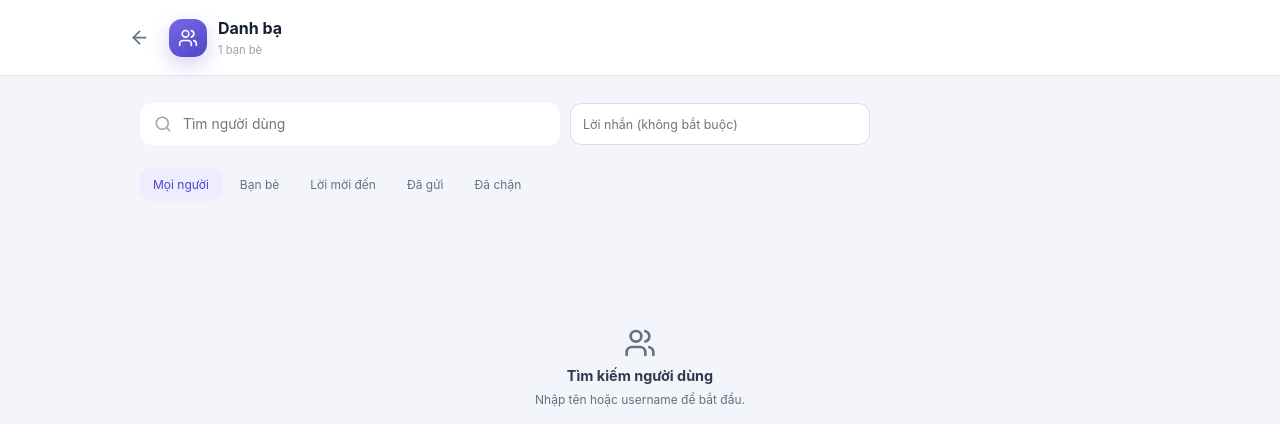
Test: ContactsPage › localizes presence status labels
Click the tab "Bạn bè": (260, 184) [227,168,292,201]
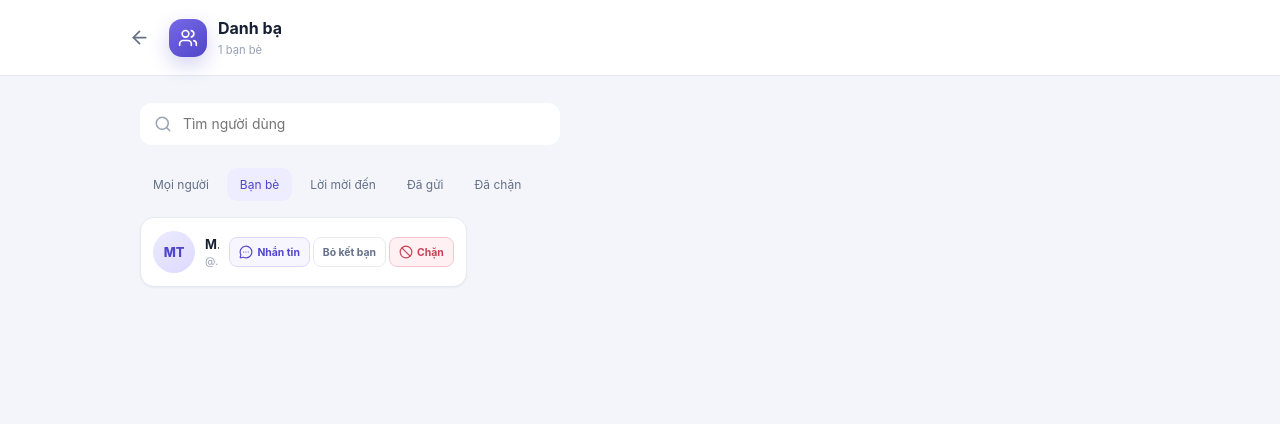
Expected: the text "@minh · Đang hoạt động" is shown, [205,254,219,268]
